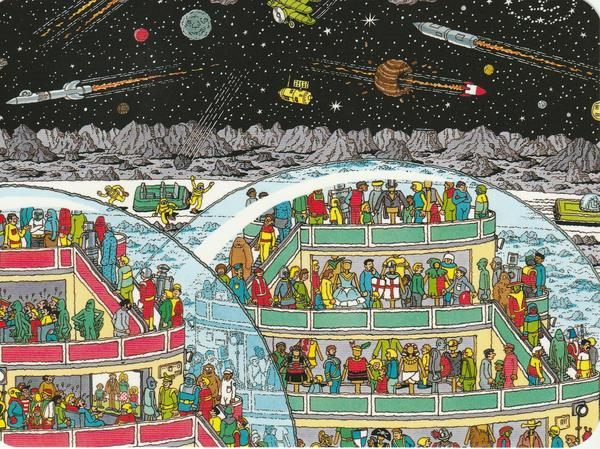waldo: (16, 381, 36, 422)
